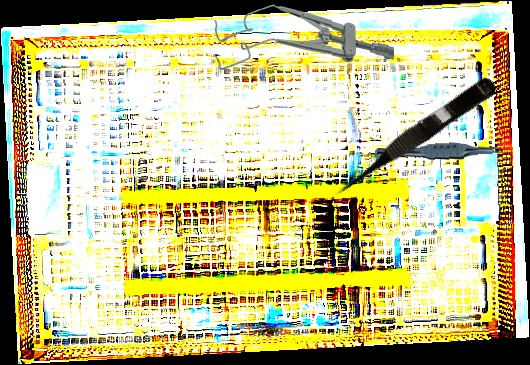Micro Scissor: (325, 70, 501, 204)
Speculum: (212, 3, 395, 74)
Tissue Forceps: (374, 138, 510, 166)
